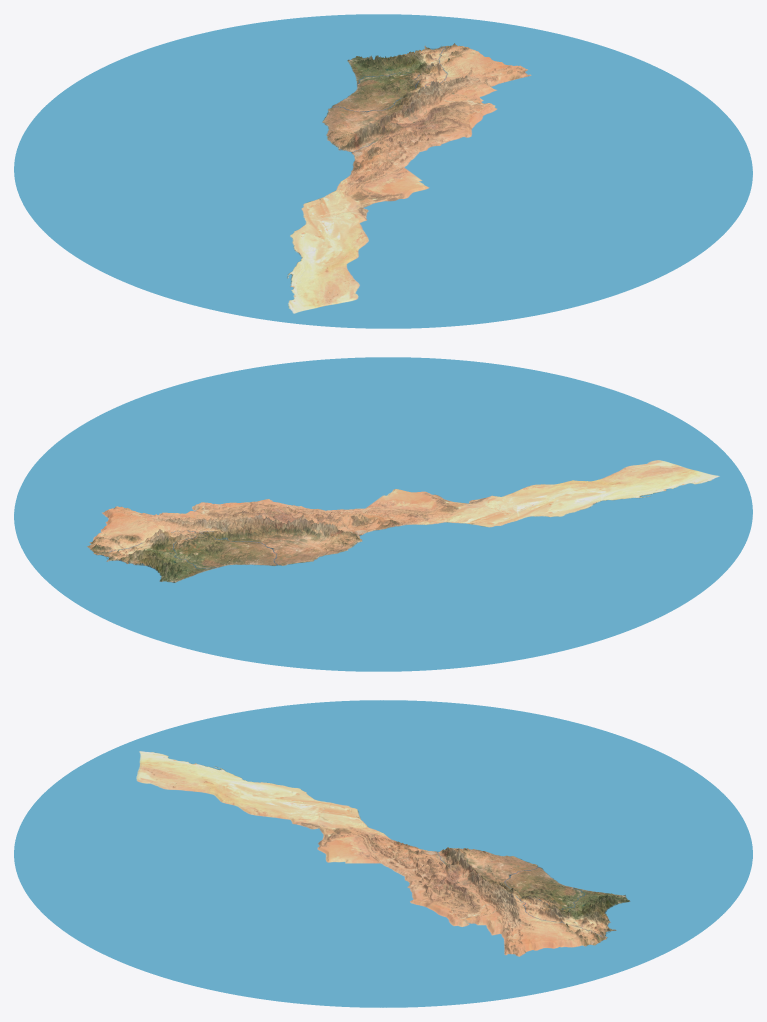
Rendered from MAR-previa-terrain.glb.
3 renders of one model, top to bottom at view 1: azimuth 30°, elevation 25°; view 2: azimuth 150°, elevation 25°; view 3: azimuth 270°, elevation 25°, orthographic.
Visible parts, largest first — view 1: Marrocos; view 2: Marrocos; view 3: Marrocos.
Boxes of the visible parts, x1,y1,x2,y2 form: Marrocos: (14,14,752,328); Marrocos: (14,357,752,671); Marrocos: (14,700,752,1007).
Bounding box in the file's own units: 2.57 × 0.064 × 2.61.
Materials: 1 (1 with a texture image).
